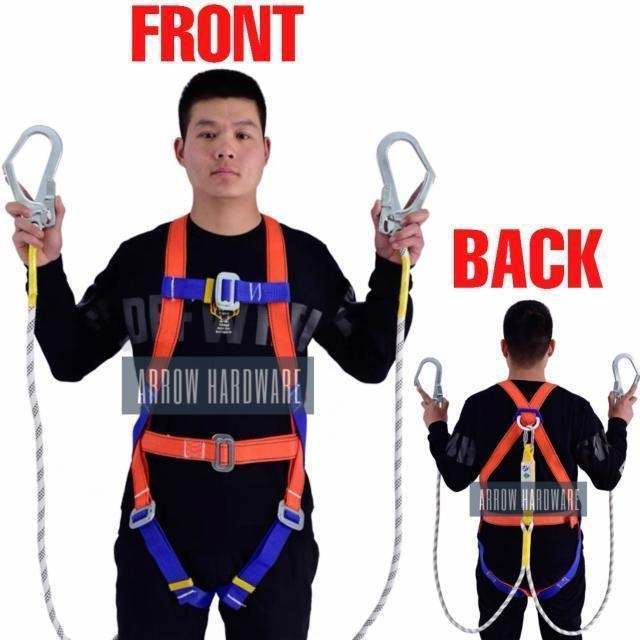Arnes_seguridad: (127, 211, 308, 611), (477, 375, 580, 539)
